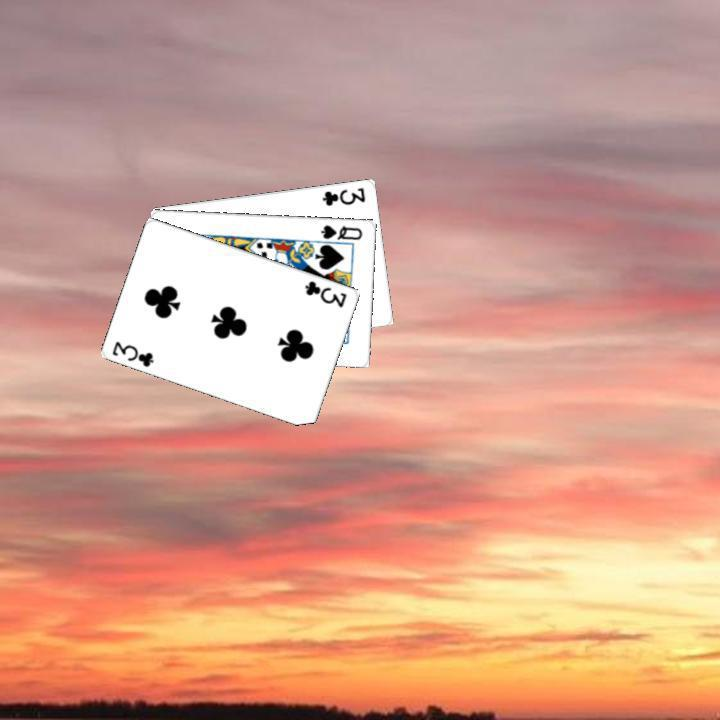3: (301, 276, 349, 309), (108, 337, 156, 369), (318, 183, 368, 208)
Q: (317, 220, 364, 241)
